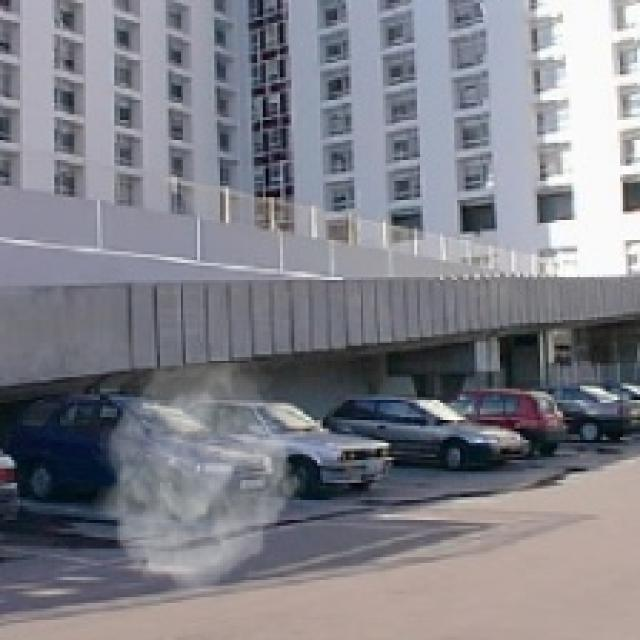Smoke: (92, 363, 308, 591)
